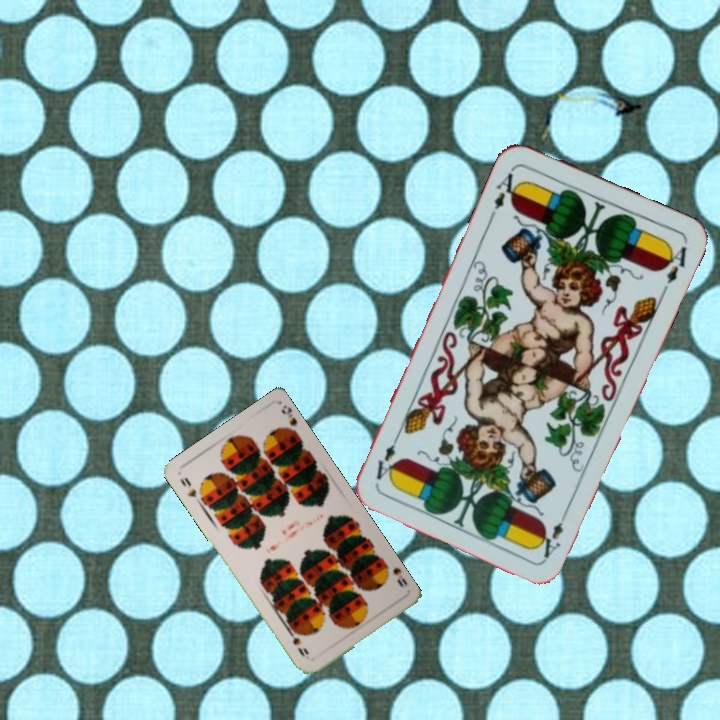EA: (485, 164, 524, 220), (534, 506, 571, 561)
S9: (176, 473, 204, 507), (382, 559, 406, 590)
